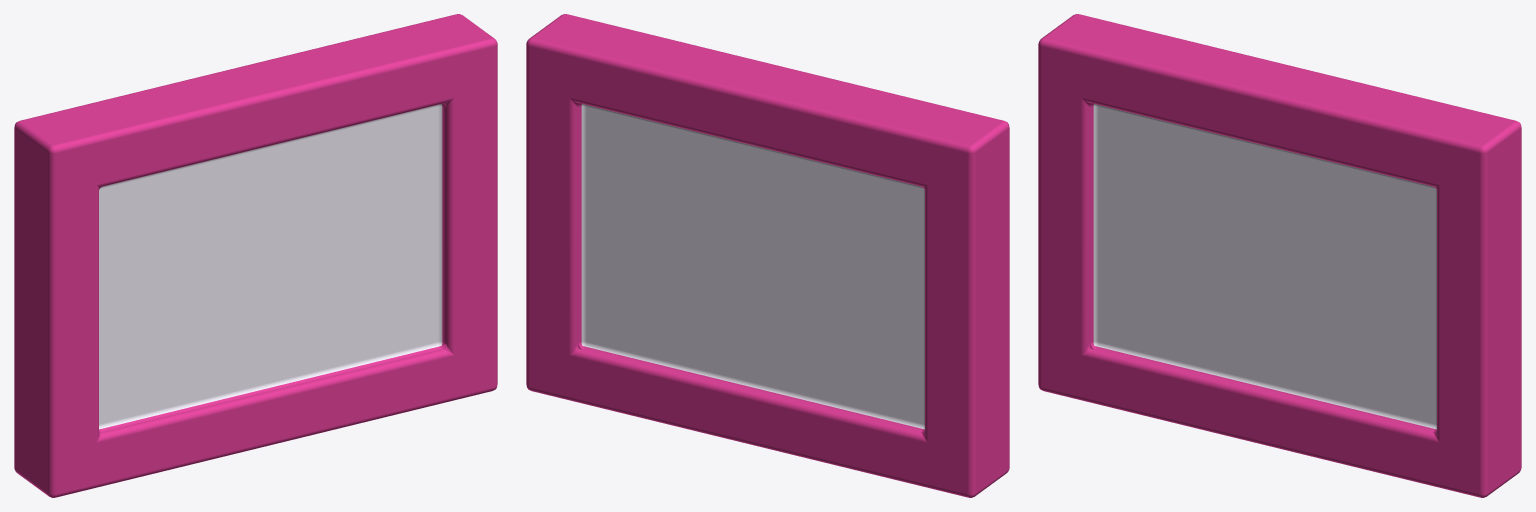
Rendered from wall_1.glb.
3 renders of one model, left to right at view 1: azimuth 30°, elevation 25°; view 2: azimuth 150°, elevation 25°; view 3: azimuth 330°, elevation 25°, orthographic.
Visible parts, largest first — view 1: Wall1; view 2: Wall1; view 3: Wall1.
Part boxes in pixels (<box>): Wall1: <box>14,14,497,497</box>; Wall1: <box>526,14,1009,497</box>; Wall1: <box>1038,14,1521,497</box>.
Bounding box in the file's own units: 4 × 3 × 0.6.
Materials: 1 (1 with a texture image).
